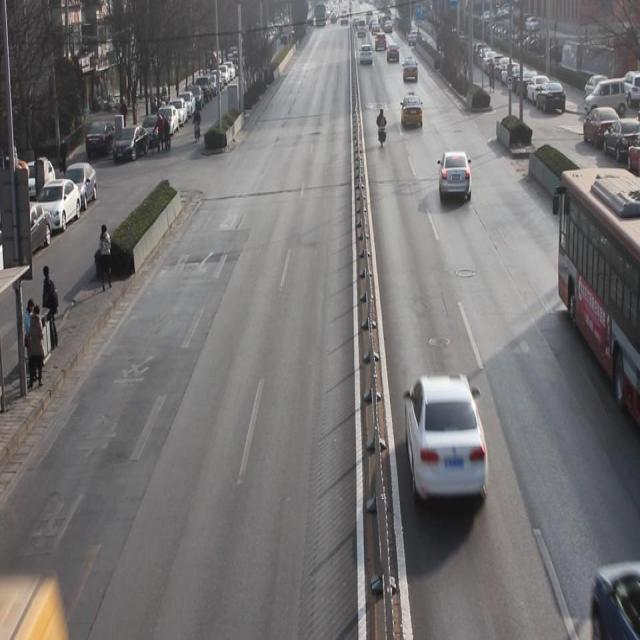car: (404, 368, 492, 520), (438, 144, 473, 208), (400, 96, 423, 136), (402, 56, 420, 84), (360, 44, 374, 70), (388, 42, 401, 67)
van: (556, 164, 640, 420)
